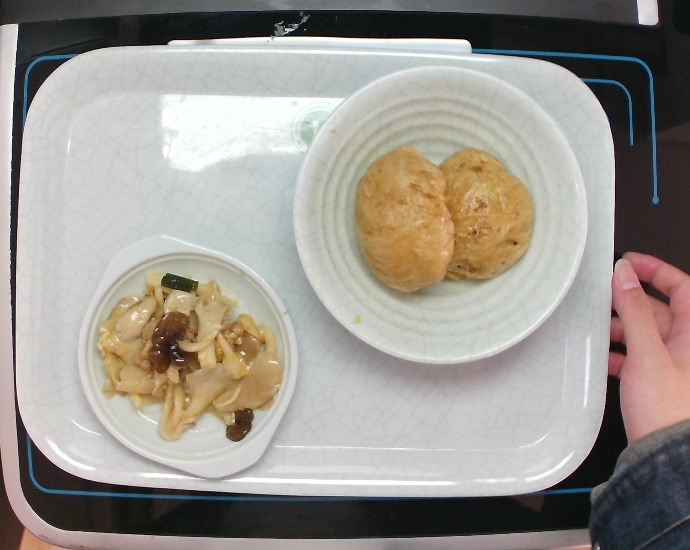JYsf-Shuang_Er_Pan: (72, 229, 304, 484)
JYsf-Xiao_Tang_Wan: (289, 62, 594, 370)
